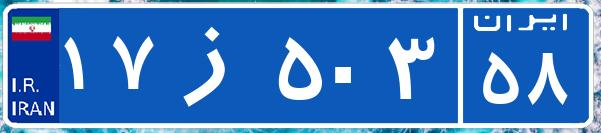0: (330, 28, 385, 110)
1: (57, 26, 110, 107)
3: (385, 28, 445, 110)
5: (273, 28, 330, 110), (475, 38, 525, 113)
7: (110, 28, 158, 105)
8: (525, 38, 570, 115)
ز: (158, 15, 273, 115)
